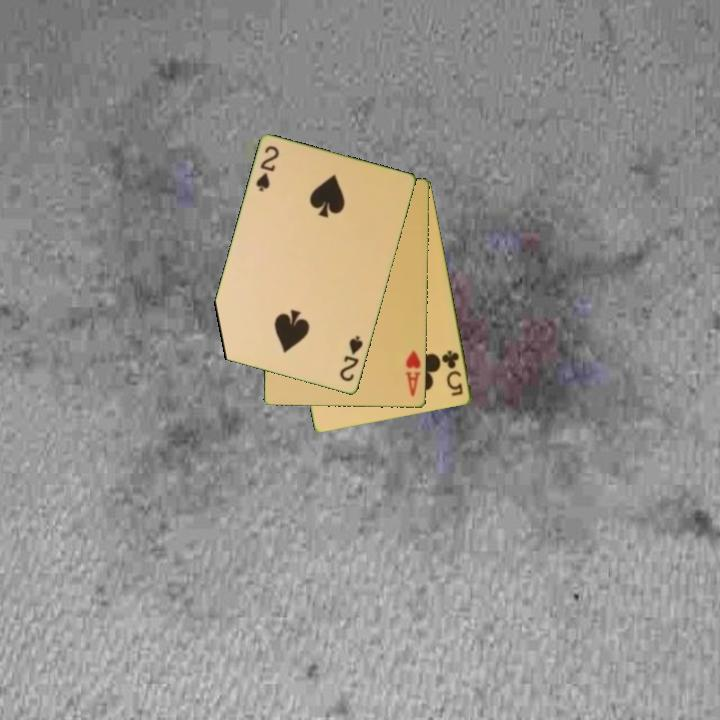2s: (336, 332, 366, 385), (253, 142, 282, 195)
5c: (438, 347, 466, 399)
Ah: (402, 347, 424, 400)
